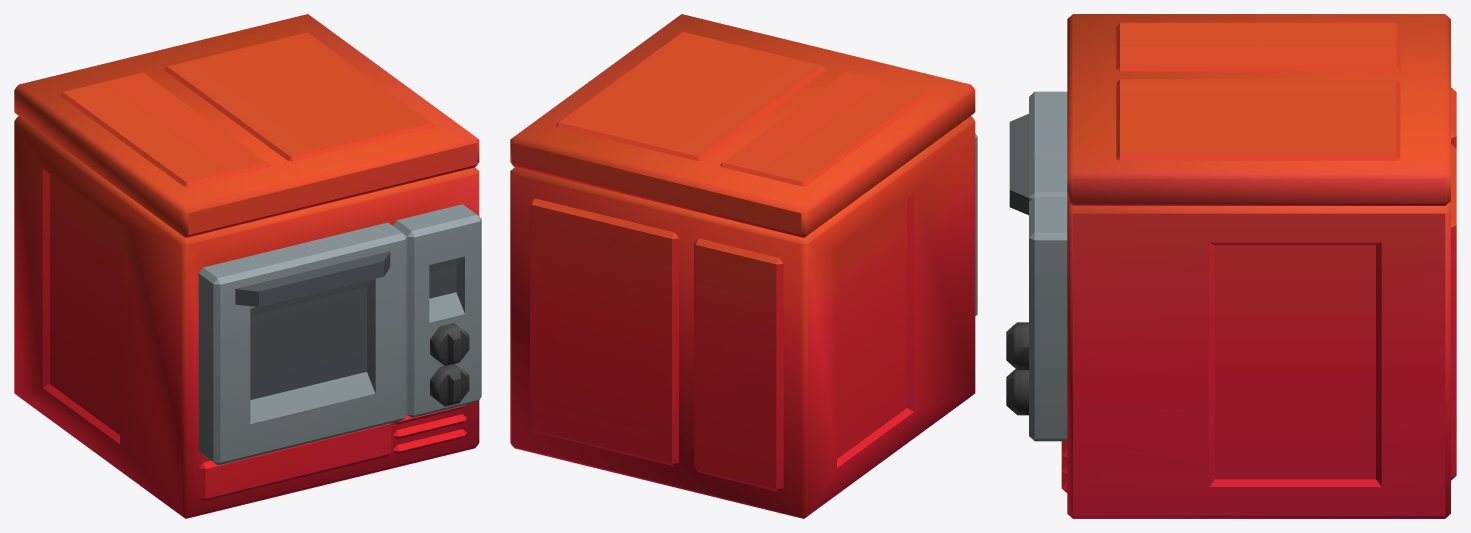
File: kkr.oven.glb
The picture shows the model from 3 angles, left to right: view 1: azimuth 30°, elevation 25°; view 2: azimuth 150°, elevation 25°; view 3: azimuth 270°, elevation 25°; orthographic projection. The views are drawn at different scales.
Visible parts, largest first — view 1: Cube.068, oven_door; view 2: Cube.068, oven_door; view 3: Cube.068, oven_door.
Boxes of the visible parts, left/top/right/bottom form: Cube.068: left=14, top=14, right=481, bottom=518; oven_door: left=198, top=222, right=407, bottom=465; Cube.068: left=510, top=14, right=975, bottom=518; oven_door: left=975, top=133, right=977, bottom=315; Cube.068: left=1006, top=14, right=1456, bottom=518; oven_door: left=1009, top=91, right=1067, bottom=215.
Bounding box in the file's own units: 1.49 × 1.5 × 1.75.
Materials: 1 (1 with a texture image).
